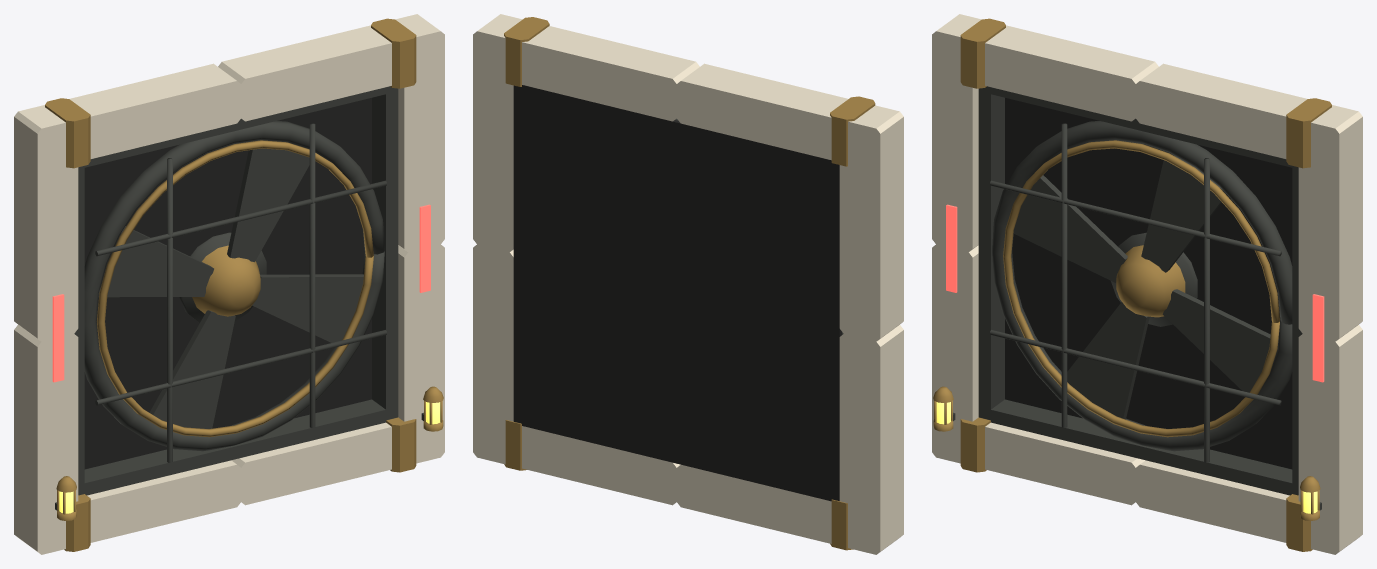
The model's file is b1_fan.glb.
3 views of the same model, side by side, from view 1: azimuth 30°, elevation 25°; view 2: azimuth 150°, elevation 25°; view 3: azimuth 330°, elevation 25° (orthographic).
Parts seen in each view (by area): view 1: b1_fan; view 2: b1_fan; view 3: b1_fan.
Boxes of the visible parts, bbox=[...] form: b1_fan: bbox=[14, 14, 444, 554]; b1_fan: bbox=[473, 14, 903, 554]; b1_fan: bbox=[932, 14, 1362, 554].
Bounding box in the file's own units: 4 × 4.04 × 0.65.
